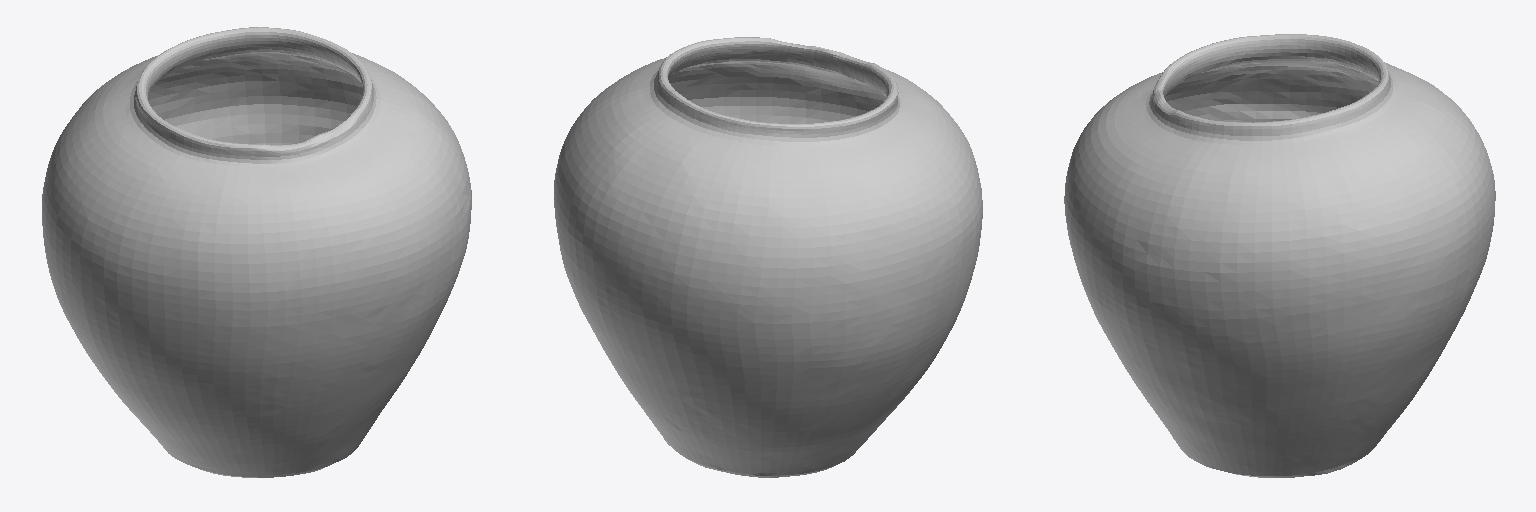
Rendered from LongFengGuan_HuTou.obj.
The picture shows the model from 3 angles: view 1: azimuth 30°, elevation 25°; view 2: azimuth 150°, elevation 25°; view 3: azimuth 270°, elevation 25°; orthographic projection.
Parts seen in each view (by area): view 1: Group15027; view 2: Group15027; view 3: Group15027.
Part boxes in pixels (bbox=[...]): Group15027: bbox=[42, 27, 471, 477]; Group15027: bbox=[554, 37, 982, 477]; Group15027: bbox=[1064, 34, 1495, 477].
Size of the model in its own units: 20.53 by 19.45 by 20.62.